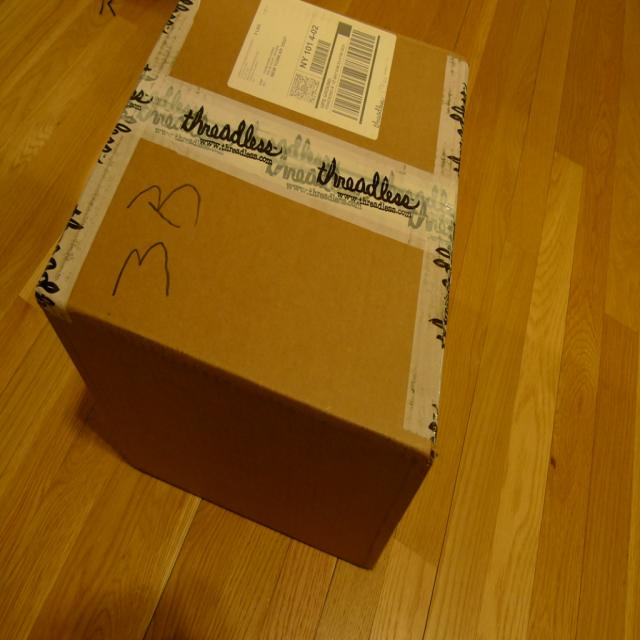Box: (34, 0, 472, 569)
